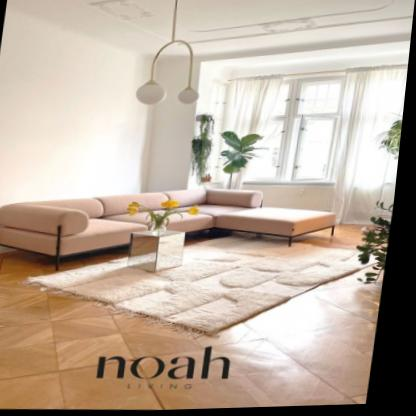Carpet: (26, 234, 373, 337)
Ceramic floor: (0, 253, 389, 411)
